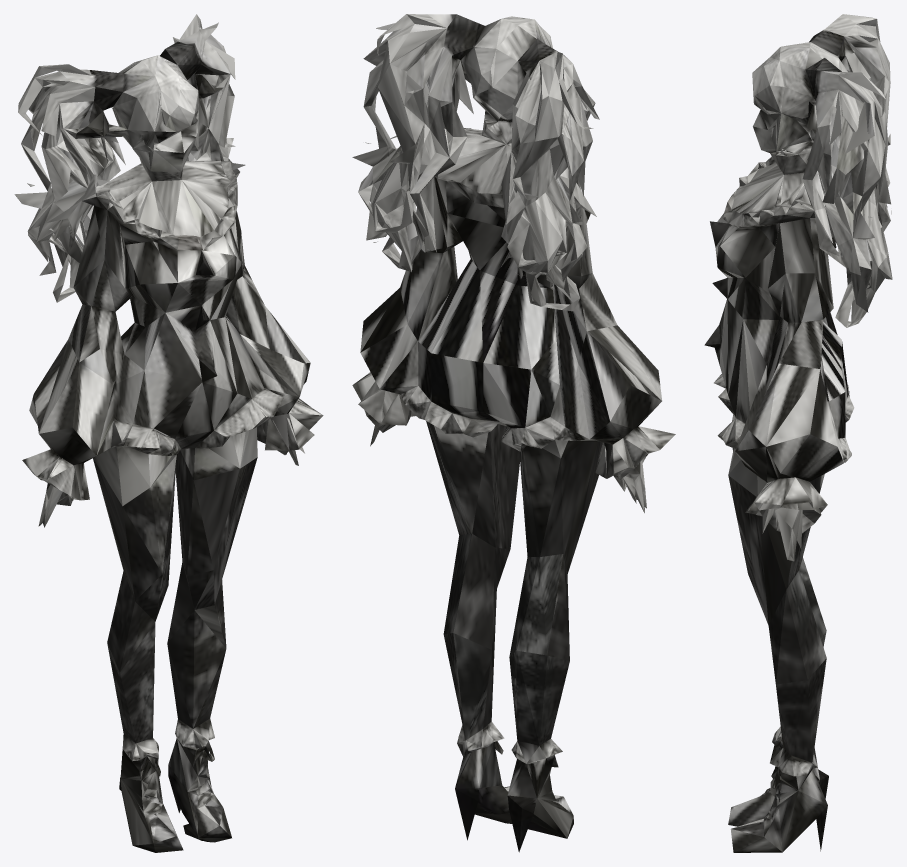
The model's file is velmirie.glb.
3 renders of one model, left to right at view 1: azimuth 30°, elevation 25°; view 2: azimuth 150°, elevation 25°; view 3: azimuth 270°, elevation 25°, orthographic. The views are drawn at different scales.
Visible parts, largest first — view 1: avatar; view 2: avatar; view 3: avatar.
Boxes of the visible parts, x1,y1,x2,y2 form: avatar: (14,14,323,852); avatar: (352,14,675,852); avatar: (704,14,892,852).
Bounding box in the file's own units: 0.3731 × 1 × 0.2139.
1 material, 1 textured.
